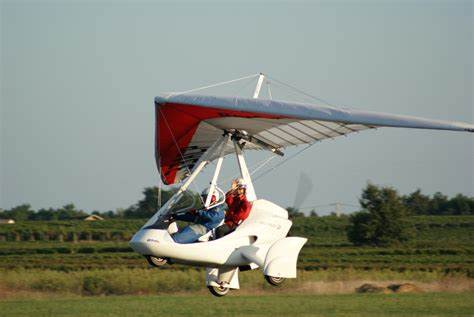Aeronef_de_loisir: (107, 66, 474, 301)
